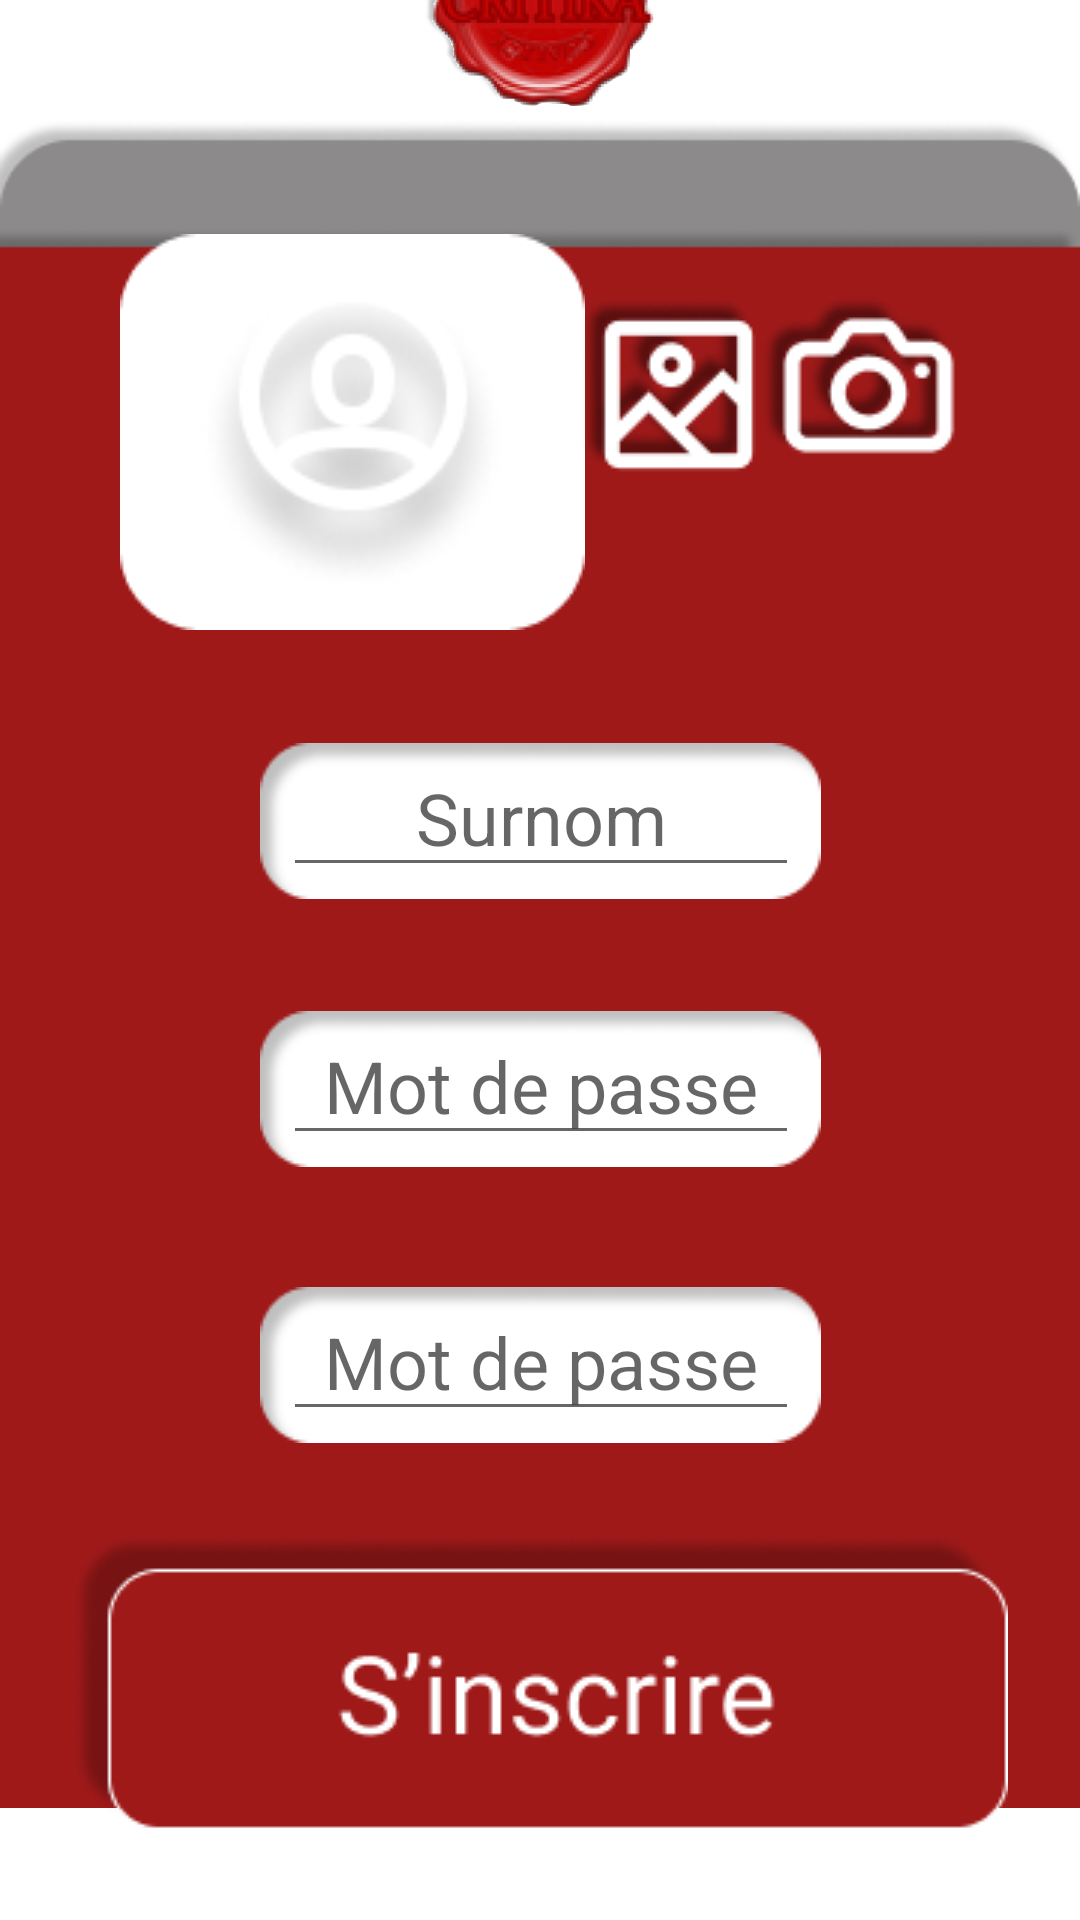

Icons on this 1080 × 1920 Android screen, each with its box as (x1, y1, x2, y2):
bouton: (590, 306, 754, 470)
bouton camere: (770, 304, 955, 454)
user: (242, 326, 466, 550)
